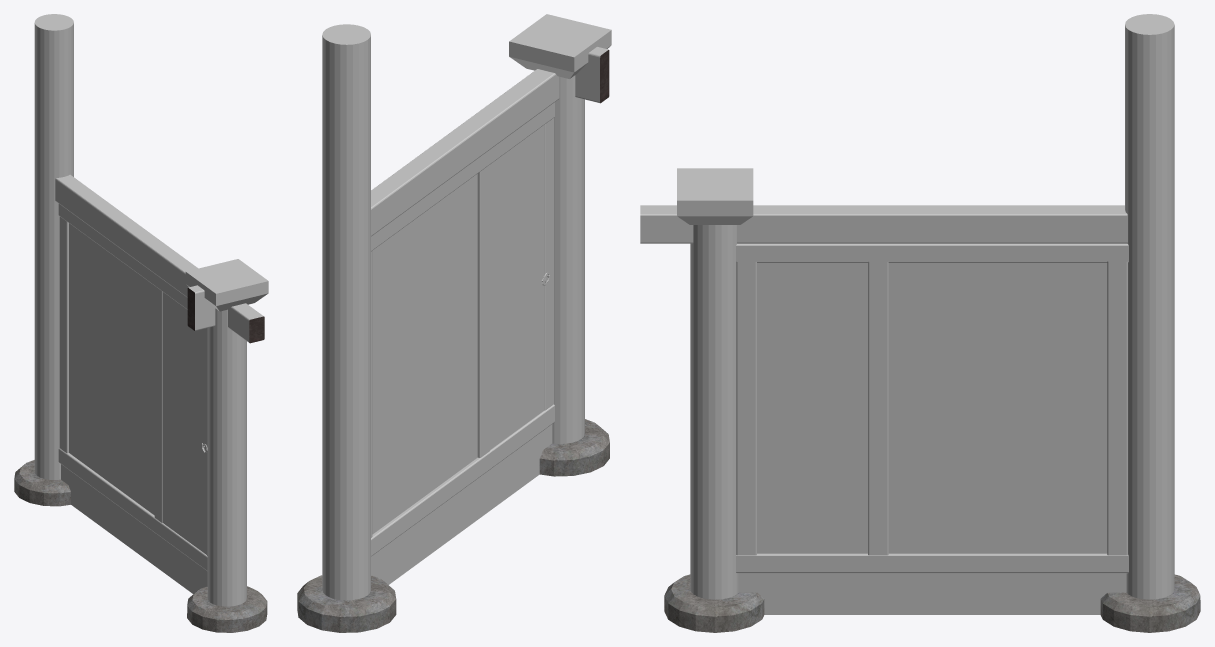
Rendered from SM_Building_Wall_18.FBX.
3 renders of one model, left to right at view 1: azimuth 30°, elevation 25°; view 2: azimuth 150°, elevation 25°; view 3: azimuth 270°, elevation 25°, orthographic. The views are drawn at different scales.
Parts seen in each view (by area): view 1: SM_Building_Wall_18; view 2: SM_Building_Wall_18; view 3: SM_Building_Wall_18.
Boxes of the visible parts, bbox=[...] form: SM_Building_Wall_18: bbox=[14, 14, 268, 632]; SM_Building_Wall_18: bbox=[297, 14, 611, 632]; SM_Building_Wall_18: bbox=[640, 14, 1200, 632].
Bounding box in the file's own units: 115 × 724 × 626.
